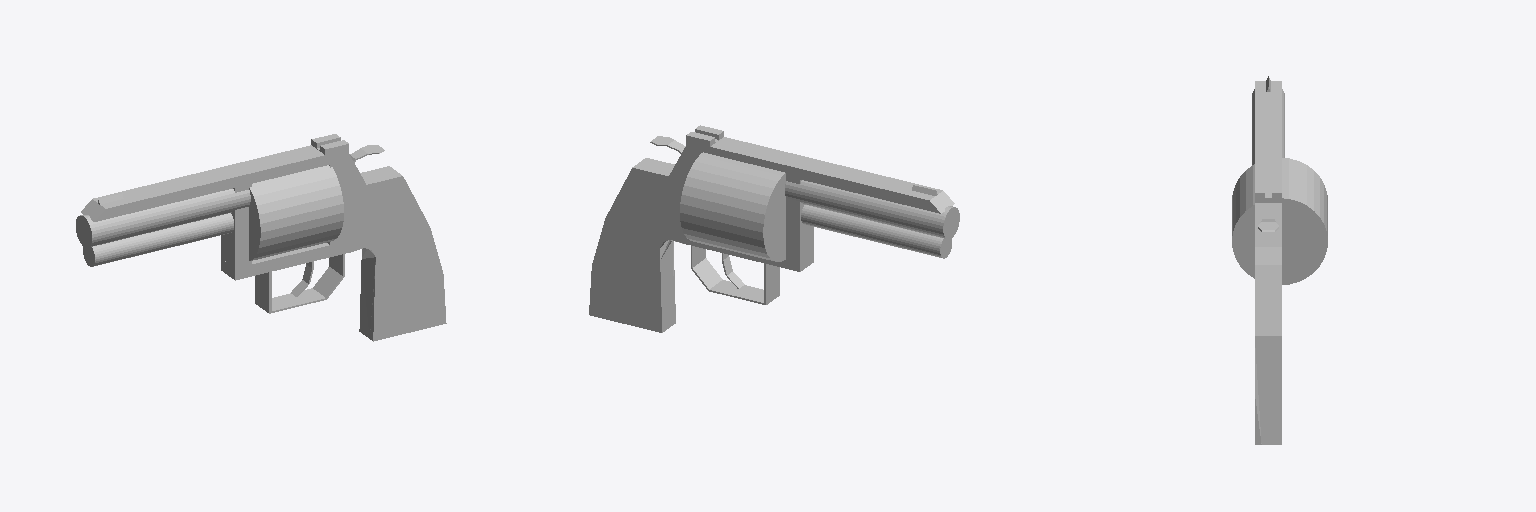
Rendered from revolver0018.obj.
3 views of the same model, side by side, from view 1: azimuth 30°, elevation 25°; view 2: azimuth 150°, elevation 25°; view 3: azimuth 270°, elevation 25° (orthographic).
Parts seen in each view (by area): view 1: Cube, bulletCylinder, upperFrame, barrel, cleaningRod, Cube.001, Cube.002, triggerGuard.002, Cube.003; view 2: Cube, bulletCylinder, upperFrame, barrel, cleaningRod, Cube.002, Cube.001, triggerGuard.002, Cube.003; view 3: bulletCylinder, Cube, upperFrame.
Part boxes in pixels (x1,y1,x2,y2): Cube: (255,154,446,341); bulletCylinder: (249,165,343,260); upperFrame: (81,145,348,250); barrel: (76,189,250,247); cleaningRod: (83,213,233,266); Cube.001: (221,241,348,280); Cube.002: (221,181,251,267); triggerGuard.002: (271,288,326,312); Cube.003: (311,134,348,155); Cube: (589,141,779,332); bulletCylinder: (680,152,785,261); upperFrame: (686,137,954,213); barrel: (785,180,959,239); cleaningRod: (801,205,951,258); Cube.002: (786,176,813,264); Cube.001: (687,239,813,271); triggerGuard.002: (708,280,764,304); Cube.003: (686,125,723,146); bulletCylinder: (1232,158,1327,284); Cube: (1255,203,1281,444); upperFrame: (1255,81,1281,202).
Bounding box in the file's own units: 5.96 × 3.26 × 1.4.